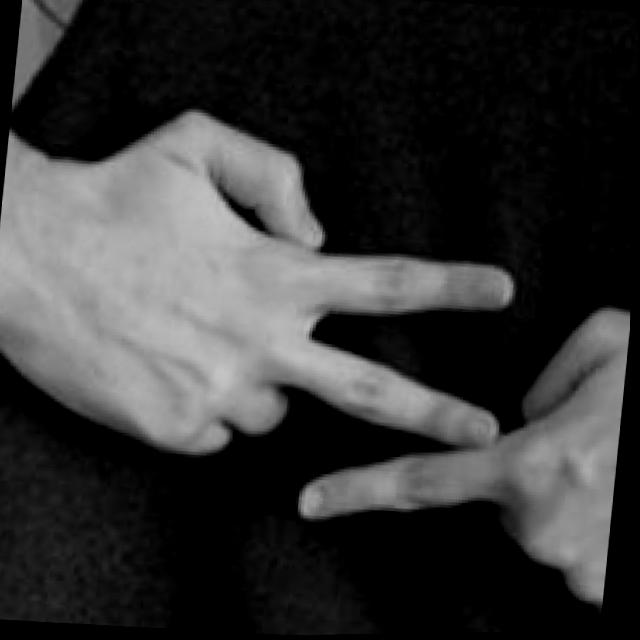Z: (0, 75, 638, 637)
